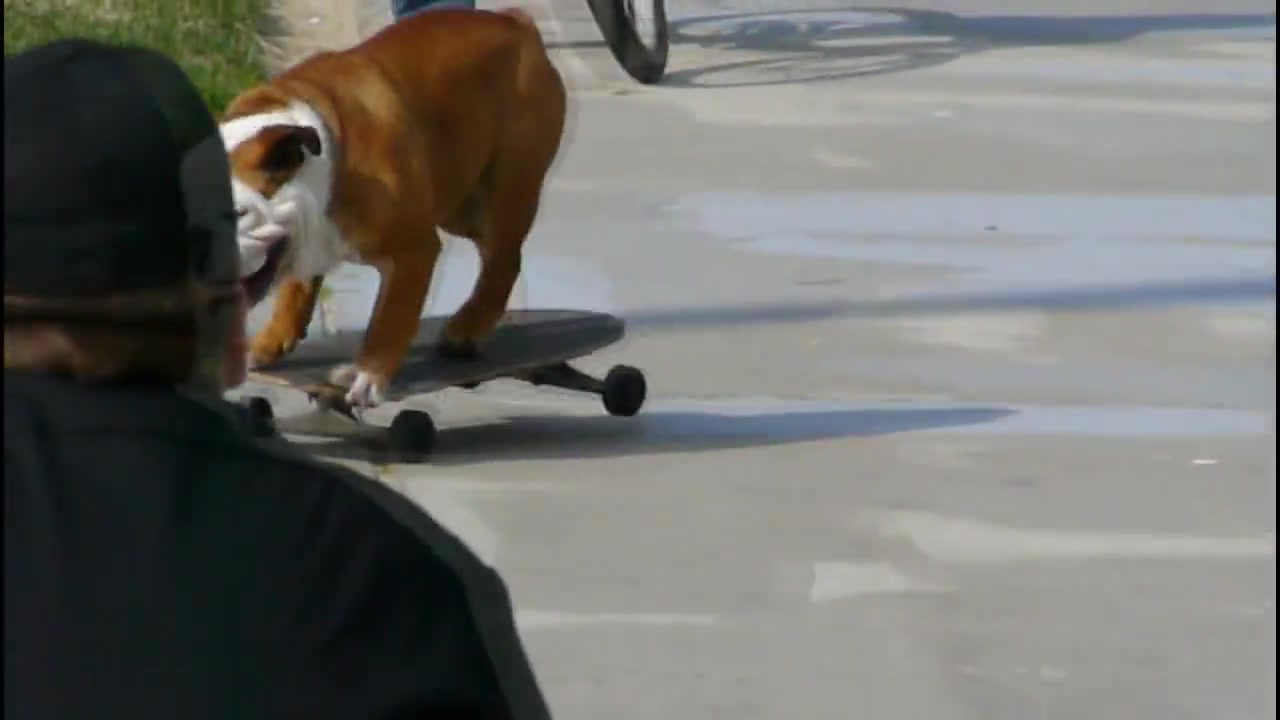dog: (212, 6, 575, 415)
